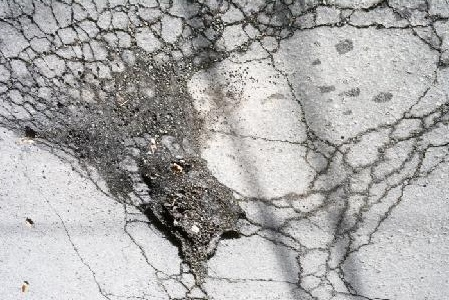pothole: (131, 152, 248, 287)
